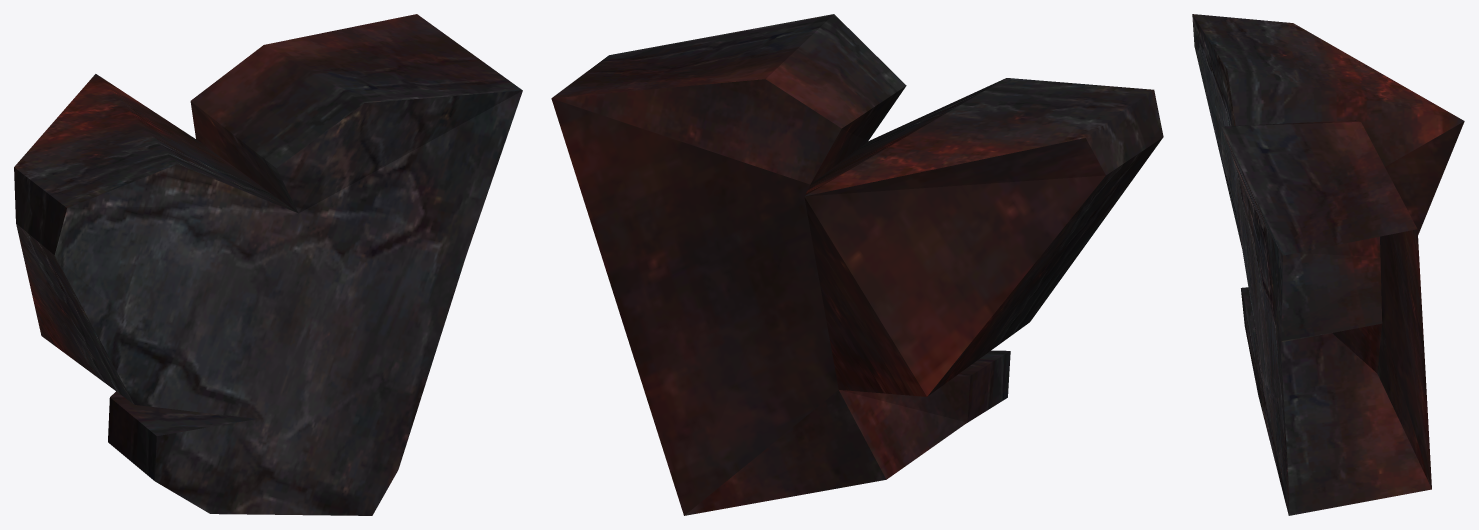
Rendered from huodong_fuben_402_shitou_03.obj.
The picture shows the model from 3 angles, left to right: view 1: azimuth 30°, elevation 25°; view 2: azimuth 150°, elevation 25°; view 3: azimuth 270°, elevation 25°; orthographic projection. The views are drawn at different scales.
Parts seen in each view (by area): view 1: huodong_fuben_402_shitou_03; view 2: huodong_fuben_402_shitou_03; view 3: huodong_fuben_402_shitou_03.
Boxes of the visible parts, left/top/right/bottom form: huodong_fuben_402_shitou_03: left=14, top=14, right=522, bottom=515; huodong_fuben_402_shitou_03: left=551, top=14, right=1163, bottom=515; huodong_fuben_402_shitou_03: left=1192, top=14, right=1464, bottom=515.
Size of the model in its own units: 972 by 809 by 541.
1 material, 1 textured.
